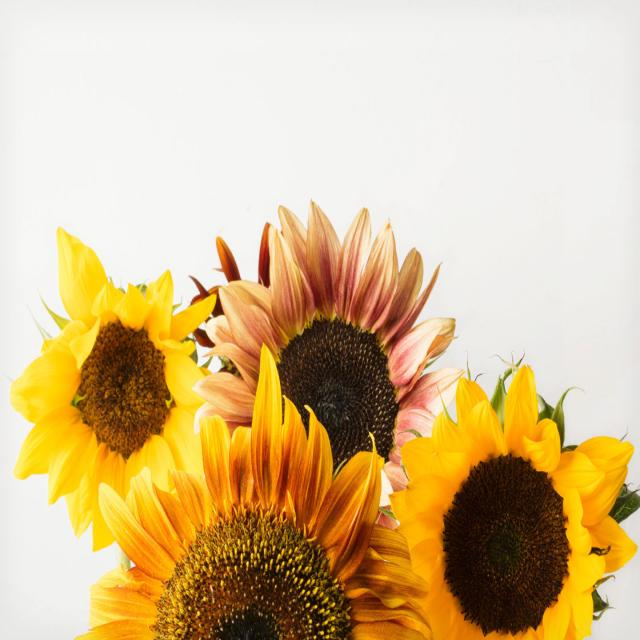sunflower: (181, 157, 451, 546), (59, 391, 428, 640), (389, 355, 632, 640), (17, 231, 237, 545)
